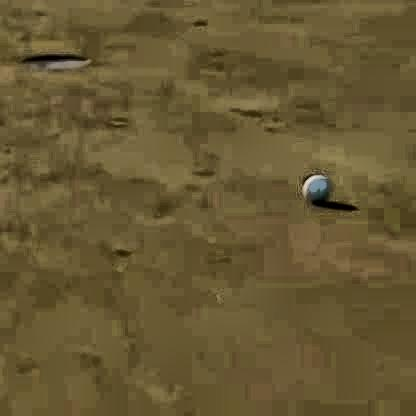golfball: (297, 166, 330, 203)
